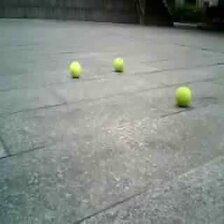tennis: (176, 86, 191, 105), (69, 62, 82, 77), (113, 58, 123, 70)
